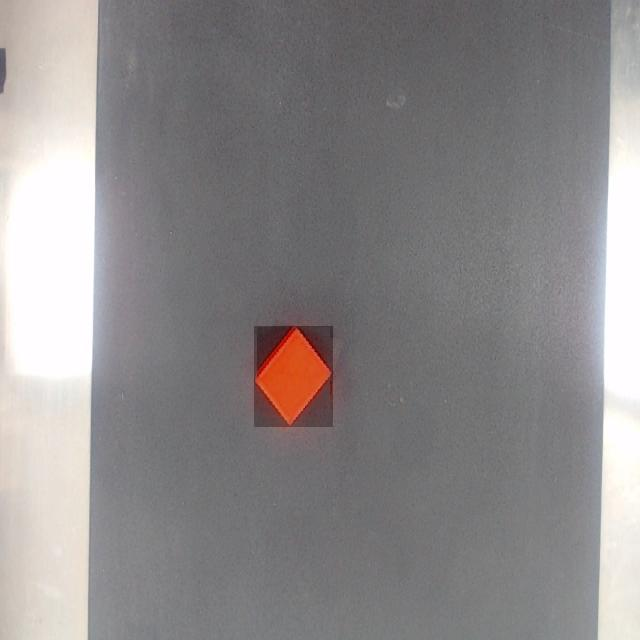Rojo: (255, 326, 333, 427)
